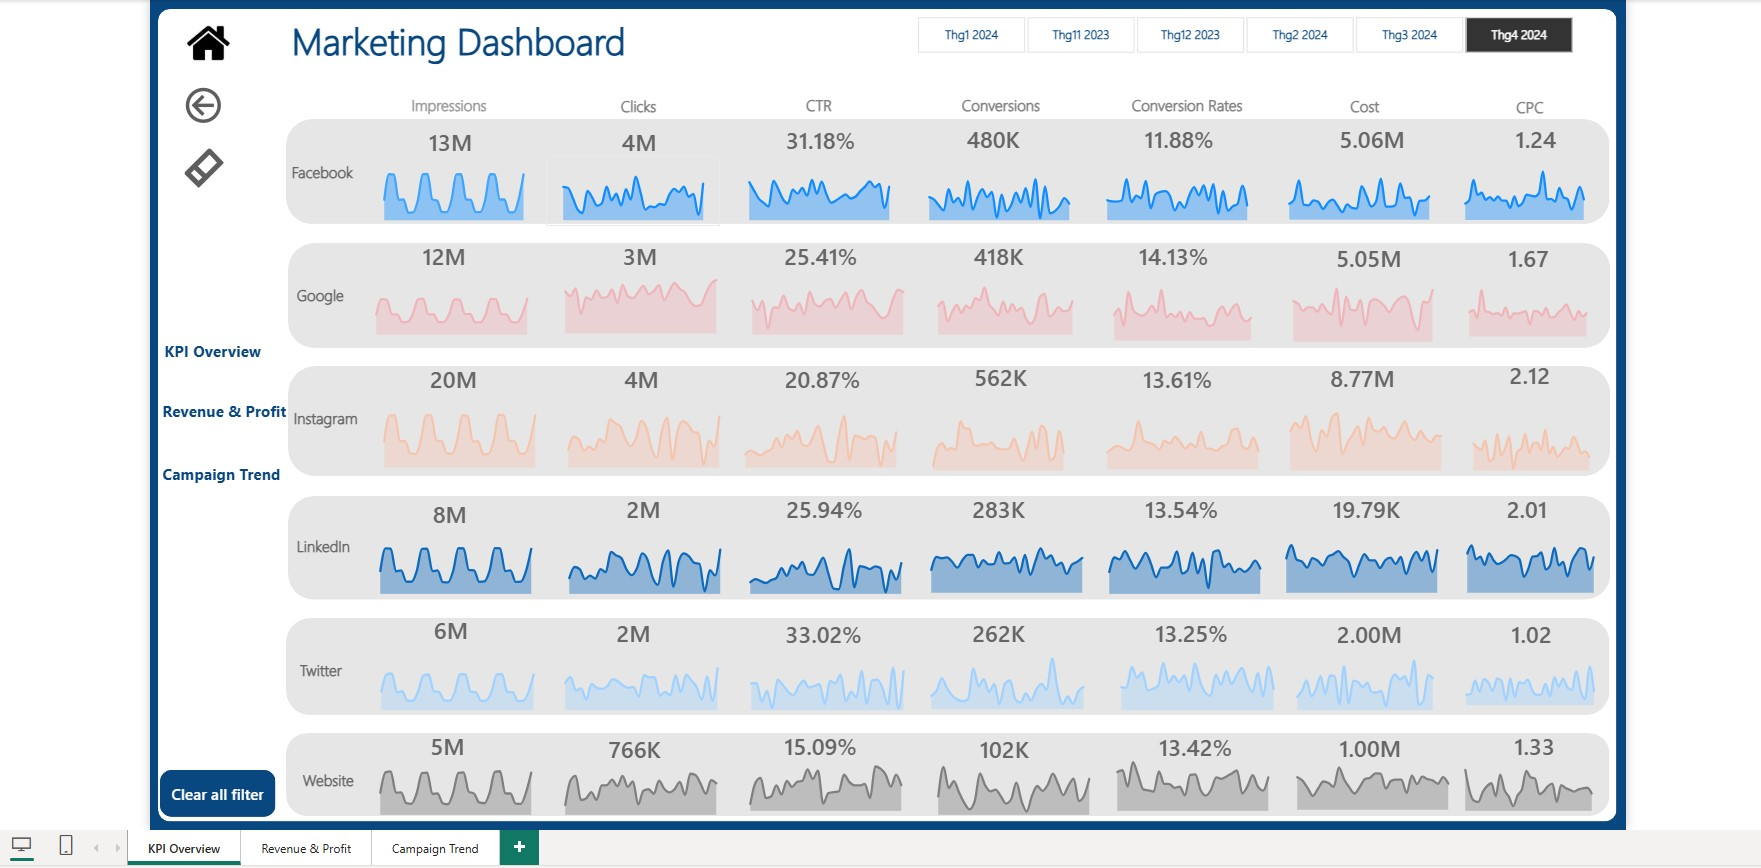

Layout of this report page (visuals, bound fields, positions):
{"tool":"powerbi","page":{"name":"KPI Overview","canvas":[1280,720],"ordinal":0},"visuals":[{"type":"shape","box":[6.8,7.9,1265.4,704.7],"z":0},{"type":"shape","box":[118.2,636.1,1148.3,72],"z":1000},{"type":"shape","box":[118.2,535.9,1148.3,84.4],"z":2000},{"type":"shape","box":[119.3,430,1147.2,90.1],"z":3000},{"type":"shape","box":[119.3,317.5,1147.2,95.7],"z":4000},{"type":"shape","box":[119.3,210.5,1147.2,91.2],"z":5000},{"type":"shape","box":[118.2,103.6,1148.3,91.2],"z":6000},{"type":"textbox","box":[118.2,7.9,334.4,52.9],"z":7000},{"type":"textbox","box":[118.2,135.1,137.3,54],"z":8000},{"type":"textbox","box":[122.7,242,59.7,41.7],"z":9000},{"type":"textbox","box":[119.3,349,94.6,33.8],"z":10000},{"type":"textbox","box":[122.7,459.5,65.4,34.9],"z":11000},{"type":"card","fields":{"Values":["_Measures.facebook_impression"]},"box":[181.2,105.8,158.7,38.3],"z":12000},{"type":"card","fields":{"Values":["_Measures.Google_impression"]},"box":[175.6,206,159.9,36],"z":13000},{"type":"slicer","fields":{"Values":["media_all_channels.Month Year"]},"box":[640.4,8.1,618.1,44.8],"z":14000},{"type":"card","fields":{"Values":["_Measures.Instagram_impression"]},"box":[183.5,313,158.7,34.9],"z":15000},{"type":"card","fields":{"Values":["_Measures.Linkedln_impression"]},"box":[181.2,430,157.6,34.9],"z":16000},{"type":"card","fields":{"Values":["_Measures.Twitter_impression"]},"box":[182.4,534.7,157.6,28.1],"z":17000},{"type":"card","fields":{"Values":["_Measures.Website_impression"]},"box":[179,636.1,158.7,27],"z":18000},{"type":"textbox","box":[125,567.4,65.3,31.5],"z":19000},{"type":"textbox","box":[127.2,663.1,63,34.9],"z":20000},{"type":"card","fields":{"Values":["_Measures.Facebook_clicks"]},"box":[344.5,105.8,159.9,38.3],"z":21000},{"type":"card","fields":{"Values":["_Measures.Google_clicks"]},"box":[345.6,208.3,159.9,31.5],"z":22000},{"type":"card","fields":{"Values":["_Measures.Instagram_clicks"]},"box":[346.7,313,158.7,34.9],"z":23000},{"type":"card","fields":{"Values":["_Measures.LinkedIn_clicks"]},"box":[349,430,158.7,27],"z":24000},{"type":"card","fields":{"Values":["_Measures.Twitter_clicks"]},"box":[340,534.7,158.7,32.6],"z":25000},{"type":"card","fields":{"Values":["_Measures.Website_clicks"]},"box":[341.1,637.2,158.7,25.9],"z":26000},{"type":"textbox","box":[213.4,77.4,92,27.2],"z":27000},{"type":"textbox","box":[377.1,77.8,92.8,26.9],"z":28000},{"type":"textbox","box":[534.7,76.8,91.8,26.9],"z":29000},{"type":"card","fields":{"Values":["_Measures.Facebook_ctr"]},"box":[502.1,103.6,158.7,39.4],"z":30000},{"type":"card","fields":{"Values":["_Measures.Google Ads_ctr"]},"box":[503.2,208.3,157.6,31.5],"z":31000},{"type":"card","fields":{"Values":["_Measures.Instagram_ctr"]},"box":[504.3,313,158.7,34.9],"z":32000},{"type":"card","fields":{"Values":["_Measures.LinkedIn_ctr"]},"box":[505.5,430,158.7,27],"z":33000},{"type":"card","fields":{"Values":["_Measures.Twitter_ctr"]},"box":[510,535.9,148.6,31.5],"z":34000},{"type":"card","fields":{"Values":["_Measures.Website_ctr"]},"box":[502.1,633.8,158.7,29.3],"z":35000},{"type":"textbox","box":[692.4,76.8,91.8,26.9],"z":36000},{"type":"card","fields":{"Values":["_Measures.Facebook_conversions"]},"box":[651.8,103.6,159.9,38.3],"z":37000},{"type":"card","fields":{"Values":["_Measures.Google Ads_conversions"]},"box":[656.3,208.3,158.7,31.5],"z":38000},{"type":"card","fields":{"Values":["_Measures.Instagram_conversions"]},"box":[658.6,310.7,158.7,37.2],"z":39000},{"type":"card","fields":{"Values":["_Measures.LinkedIn_conversions"]},"box":[656.3,430,158.7,27],"z":40000},{"type":"card","fields":{"Values":["_Measures.Twitter_conversions"]},"box":[656.3,534.7,158.7,32.6],"z":41000},{"type":"card","fields":{"Values":["_Measures.Website_conversions"]},"box":[675.5,637.2,130.6,25.9],"z":42000},{"type":"card","fields":{"Values":["_Measures.Facebook_conversion_rate"]},"box":[812.8,103.6,159.9,38.3],"z":43000},{"type":"card","fields":{"Values":["_Measures.Google Ads_conversion_rate"]},"box":[808.3,208.3,158.7,31.5],"z":44000},{"type":"card","fields":{"Values":["_Measures.Instagram_conversion_rate"]},"box":[811.7,313,158.7,34.9],"z":45000},{"type":"card","fields":{"Values":["_Measures.LinkedIn_conversion_rate"]},"box":[815.1,426.7,158.7,32.6],"z":46000},{"type":"card","fields":{"Values":["_Measures.Twitter_conversion_rate"]},"box":[824.1,534.7,158.7,32.6],"z":47000},{"type":"card","fields":{"Values":["_Measures.Website_conversion_rate"]},"box":[827.4,634.9,158.7,30.4],"z":48000},{"type":"textbox","box":[829,77.4,140.7,27],"z":49000},{"type":"card","fields":{"Values":["_Measures.Facebook_cost"]},"box":[980.5,103.6,159.9,38.3],"z":50000},{"type":"card","fields":{"Values":["_Measures.Google Ads_cost"]},"box":[978.3,210.5,157.6,29.3],"z":51000},{"type":"card","fields":{"Values":["_Measures.Instagram_cost"]},"box":[972.7,315.2,158.7,30.4],"z":52000},{"type":"card","fields":{"Values":["_Measures.LinkedIn_cost"]},"box":[976,430,158.7,27],"z":53000},{"type":"card","fields":{"Values":["_Measures.Twitter_cost"]},"box":[978.3,535.9,158.7,31.5],"z":54000},{"type":"card","fields":{"Values":["_Measures.Website_cost"]},"box":[978.3,637.2,159.9,27],"z":55000},{"type":"textbox","box":[1019.6,77.8,68.8,26.9],"z":56000},{"type":"card","fields":{"Values":["_Measures.Facebook_cpc"]},"box":[1134.8,108.1,135.1,28.1],"z":57000},{"type":"card","fields":{"Values":["_Measures.Google Ads_cpc"]},"box":[1116.8,212.8,158.7,27],"z":58000},{"type":"card","fields":{"Values":["_Measures.Instagram_cpc"]},"box":[1128,314.1,138.5,27],"z":59000},{"type":"card","fields":{"Values":["_Measures.LinkedIn_cpc"]},"box":[1119,430,150.9,27],"z":60000},{"type":"card","fields":{"Values":["_Measures.Twitter_cpc"]},"box":[1119,535.9,158.7,31.5],"z":61000},{"type":"card","fields":{"Values":["_Measures.Website_cpc"]},"box":[1121.3,636.1,158.7,27],"z":62000},{"type":"textbox","box":[1157.3,78.8,79.8,26.9],"z":63000},{"type":"stackedAreaChart","fields":{"Category":["media_all_channels.date.Biến động.Phân cấp ngày tháng.Năm"],"Y":["_Measures.Facebook_impression"]},"box":[188,135.1,150.9,60.8],"z":64000},{"type":"stackedAreaChart","fields":{"Category":["media_all_channels.date.Biến động.Phân cấp ngày tháng.Năm"],"Y":["_Measures.Google Ads_impression"]},"box":[181.2,225.2,161,69.8],"z":65000},{"type":"stackedAreaChart","fields":{"Category":["media_all_channels.date.Biến động.Phân cấp ngày tháng.Năm"],"Y":["_Measures.LinkedIn_impression"]},"box":[184.6,457.1,161,63],"z":66000},{"type":"stackedAreaChart","fields":{"Category":["media_all_channels.date.Biến động.Phân cấp ngày tháng.Năm"],"Y":["_Measures.Instagram_impression"]},"box":[188,341.1,161,69.8],"z":67000},{"type":"stackedAreaChart","fields":{"Category":["media_all_channels.date.Biến động.Phân cấp ngày tháng.Năm"],"Y":["_Measures.Twitter_impression"]},"box":[185.8,556.1,162.1,65.3],"z":68000},{"type":"stackedAreaChart","fields":{"Category":["media_all_channels.date.Biến động.Phân cấp ngày tháng.Năm"],"Y":["_Measures.Website_impression"]},"box":[184.6,648.4,161,63],"z":69000},{"type":"stackedAreaChart","fields":{"Category":["media_all_channels.date.Biến động.Phân cấp ngày tháng.Năm"],"Y":["_Measures.Facebook_clicks"]},"box":[343.1,134.9,151.3,60.7],"z":70000},{"type":"stackedAreaChart","fields":{"Category":["media_all_channels.date.Biến động.Phân cấp ngày tháng.Năm"],"Y":["_Measures.Facebook_ctr"]},"box":[505.1,134.9,151.3,60.7],"z":71000},{"type":"stackedAreaChart","fields":{"Category":["media_all_channels.date.Biến động.Phân cấp ngày tháng.Năm"],"Y":["_Measures.Facebook_conversions"]},"box":[661.2,134.9,151.3,60.7],"z":72000},{"type":"stackedAreaChart","fields":{"Category":["media_all_channels.date.Biến động.Phân cấp ngày tháng.Năm"],"Y":["_Measures.Facebook_conversion_rate"]},"box":[815.4,134.9,151.3,60.7],"z":73000},{"type":"stackedAreaChart","fields":{"Category":["media_all_channels.date.Biến động.Phân cấp ngày tháng.Năm"],"Y":["_Measures.Facebook_cost"]},"box":[973.5,131.1,151.3,64.6],"z":74000},{"type":"stackedAreaChart","fields":{"Category":["media_all_channels.date.Biến động.Phân cấp ngày tháng.Năm"],"Y":["_Measures.Facebook_cpc"]},"box":[1125.8,125,132.8,70.9],"z":75000},{"type":"stackedAreaChart","fields":{"Category":["media_all_channels.date.Biến động.Phân cấp ngày tháng.Năm"],"Y":["_Measures.Google Ads_clicks"]},"box":[345.6,225.2,161,69.8],"z":76000},{"type":"stackedAreaChart","fields":{"Category":["media_all_channels.date.Biến động.Phân cấp ngày tháng.Năm"],"Y":["_Measures.Google Ads_ctr"]},"box":[507.7,225.2,161,69.8],"z":77000},{"type":"stackedAreaChart","fields":{"Category":["media_all_channels.date.Biến động.Phân cấp ngày tháng.Năm"],"Y":["_Measures.Google Ads_conversions"]},"box":[668.7,225.2,146.4,69.8],"z":78000},{"type":"stackedAreaChart","fields":{"Category":["media_all_channels.date.Biến động.Phân cấp ngày tháng.Năm"],"Y":["_Measures.Google Ads_conversion_rate"]},"box":[821.8,231.9,148.6,69.8],"z":79000},{"type":"stackedAreaChart","fields":{"Category":["media_all_channels.date.Biến động.Phân cấp ngày tháng.Năm"],"Y":["_Measures.Google Ads_cost"]},"box":[977.2,231.9,150.9,69.8],"z":80000},{"type":"stackedAreaChart","fields":{"Category":["media_all_channels.date.Biến động.Phân cấp ngày tháng.Năm"],"Y":["_Measures.Google Ads_cpc"]},"box":[1129.1,228.5,131.7,69.8],"z":81000},{"type":"stackedAreaChart","fields":{"Category":["media_all_channels.date.Biến động.Phân cấp ngày tháng.Năm"],"Y":["_Measures.LinkedIn_clicks"]},"box":[347.9,341.1,161,69.8],"z":82000},{"type":"stackedAreaChart","fields":{"Category":["media_all_channels.date.Biến động.Phân cấp ngày tháng.Năm"],"Y":["_Measures.LinkedIn_ctr"]},"box":[501,341.1,161,69.8],"z":83000},{"type":"stackedAreaChart","fields":{"Category":["media_all_channels.date.Biến động.Phân cấp ngày tháng.Năm"],"Y":["_Measures.Instagram_conversions"]},"box":[664.2,343.4,143,69.8],"z":84000},{"type":"stackedAreaChart","fields":{"Category":["media_all_channels.date.Biến động.Phân cấp ngày tháng.Năm"],"Y":["_Measures.Instagram_conversion_rate"]},"box":[815.1,343.4,161,69.8],"z":85000},{"type":"stackedAreaChart","fields":{"Category":["media_all_channels.date.Biến động.Phân cấp ngày tháng.Năm"],"Y":["_Measures.Instagram_cost"]},"box":[973.8,343.4,161,69.8],"z":86000},{"type":"stackedAreaChart","fields":{"Category":["media_all_channels.date.Biến động.Phân cấp ngày tháng.Năm"],"Y":["_Measures.Instagram_cpc"]},"box":[1132.5,343.4,130.6,69.8],"z":87000},{"type":"stackedAreaChart","fields":{"Category":["media_all_channels.date.Biến động.Phân cấp ngày tháng.Năm"],"Y":["_Measures.LinkedIn_clicks"]},"box":[349,457.1,161,63],"z":88000},{"type":"stackedAreaChart","fields":{"Category":["media_all_channels.date.Biến động.Phân cấp ngày tháng.Năm"],"Y":["_Measures.LinkedIn_ctr"]},"box":[505.5,457.1,161,63],"z":89000},{"type":"stackedAreaChart","fields":{"Category":["media_all_channels.date.Biến động.Phân cấp ngày tháng.Năm"],"Y":["_Measures.LinkedIn_conversions"]},"box":[663.1,457.1,161,63],"z":90000},{"type":"stackedAreaChart","fields":{"Category":["media_all_channels.date.Biến động.Phân cấp ngày tháng.Năm"],"Y":["_Measures.LinkedIn_conversion_rate"]},"box":[817.3,457.1,161,63],"z":91000},{"type":"stackedAreaChart","fields":{"Category":["media_all_channels.date.Biến động.Phân cấp ngày tháng.Năm"],"Y":["_Measures.LinkedIn_cost"]},"box":[970.4,457.1,161,63],"z":92000},{"type":"stackedAreaChart","fields":{"Category":["media_all_channels.date.Biến động.Phân cấp ngày tháng.Năm"],"Y":["_Measures.LinkedIn_cpc"]},"box":[1128,457.1,139.6,63],"z":93000},{"type":"stackedAreaChart","fields":{"Category":["media_all_channels.date.Biến động.Phân cấp ngày tháng.Năm"],"Y":["_Measures.Twitter_clicks"]},"box":[345.6,556.1,162.1,65.3],"z":94000},{"type":"stackedAreaChart","fields":{"Category":["media_all_channels.date.Biến động.Phân cấp ngày tháng.Năm"],"Y":["_Measures.Twitter_ctr"]},"box":[506.6,556.1,162.1,65.3],"z":95000},{"type":"stackedAreaChart","fields":{"Category":["media_all_channels.date.Biến động.Phân cấp ngày tháng.Năm"],"Y":["_Measures.Twitter_conversions"]},"box":[663.1,555,162.1,65.3],"z":96000},{"type":"stackedAreaChart","fields":{"Category":["media_all_channels.date.Biến động.Phân cấp ngày tháng.Năm"],"Y":["_Measures.Twitter_conversion_rate"]},"box":[827.4,556.1,162.1,65.3],"z":97000},{"type":"stackedAreaChart","fields":{"Category":["media_all_channels.date.Biến động.Phân cấp ngày tháng.Năm"],"Y":["_Measures.Twitter_cost"]},"box":[980.5,556.1,147.5,65.3],"z":98000},{"type":"stackedAreaChart","fields":{"Category":["media_all_channels.date.Biến động.Phân cấp ngày tháng.Năm"],"Y":["_Measures.Twitter_cpc"]},"box":[1126.9,551.6,140.7,65.3],"z":99000},{"type":"stackedAreaChart","fields":{"Category":["media_all_channels.date.Biến động.Phân cấp ngày tháng.Năm"],"Y":["_Measures.Website_clicks"]},"box":[345.6,648.4,161,63],"z":100000},{"type":"stackedAreaChart","fields":{"Category":["media_all_channels.date.Biến động.Phân cấp ngày tháng.Năm"],"Y":["_Measures.Website_ctr"]},"box":[505.5,645.1,161,63],"z":101000},{"type":"stackedAreaChart","fields":{"Category":["media_all_channels.date.Biến động.Phân cấp ngày tháng.Năm"],"Y":["_Measures.Website_conversion_rate"]},"box":[824.1,645.1,161,63],"z":102000},{"type":"stackedAreaChart","fields":{"Category":["media_all_channels.date.Biến động.Phân cấp ngày tháng.Năm"],"Y":["_Measures.Website_conversions"]},"box":[668.7,648.4,161,63],"z":103000},{"type":"stackedAreaChart","fields":{"Category":["media_all_channels.date.Biến động.Phân cấp ngày tháng.Năm"],"Y":["_Measures.Website_cost"]},"box":[980.5,645.1,161,63],"z":104000},{"type":"stackedAreaChart","fields":{"Category":["media_all_channels.date.Biến động.Phân cấp ngày tháng.Năm"],"Y":["_Measures.Website_cpc"]},"box":[1125.8,645.1,139.6,63],"z":105000},{"type":"actionButton","box":[9,283.7,100.2,40.5],"z":106000},{"type":"actionButton","box":[6.8,335.5,141.8,40.5],"z":107000},{"type":"actionButton","box":[6.8,390.6,118.2,40.5],"z":108000},{"type":"actionButton","box":[9,667.6,100.2,40.5],"z":109000},{"type":"actionButton","box":[25.9,70.9,58.5,40.5],"z":110000},{"type":"actionButton","box":[25.9,125,50.7,41.7],"z":111000},{"type":"image","box":[24.8,13.5,51.8,47.3],"z":112000}]}

Visuals, with their boxes on the page's 1280x720 design canvas (x1, y1, x2, y2). These are canvas units, not pixel positions in the 1761x868 screenshot, which may show the page scaled, cropped or inside an application window:
shape: [7, 8, 1272, 713]
shape: [118, 636, 1266, 708]
shape: [118, 536, 1266, 620]
shape: [119, 430, 1266, 520]
shape: [119, 318, 1266, 413]
shape: [119, 210, 1266, 302]
shape: [118, 104, 1266, 195]
textbox: [118, 8, 453, 61]
textbox: [118, 135, 256, 189]
textbox: [123, 242, 182, 284]
textbox: [119, 349, 214, 383]
textbox: [123, 460, 188, 494]
card - _Measures.facebook_impression: [181, 106, 340, 144]
card - _Measures.Google_impression: [176, 206, 336, 242]
slicer - media_all_channels.Month Year: [640, 8, 1258, 53]
card - _Measures.Instagram_impression: [184, 313, 342, 348]
card - _Measures.Linkedln_impression: [181, 430, 339, 465]
card - _Measures.Twitter_impression: [182, 535, 340, 563]
card - _Measures.Website_impression: [179, 636, 338, 663]
textbox: [125, 567, 190, 599]
textbox: [127, 663, 190, 698]
card - _Measures.Facebook_clicks: [344, 106, 504, 144]
card - _Measures.Google_clicks: [346, 208, 506, 240]
card - _Measures.Instagram_clicks: [347, 313, 505, 348]
card - _Measures.LinkedIn_clicks: [349, 430, 508, 457]
card - _Measures.Twitter_clicks: [340, 535, 499, 567]
card - _Measures.Website_clicks: [341, 637, 500, 663]
textbox: [213, 77, 305, 105]
textbox: [377, 78, 470, 105]
textbox: [535, 77, 626, 104]
card - _Measures.Facebook_ctr: [502, 104, 661, 143]
card - _Measures.Google Ads_ctr: [503, 208, 661, 240]
card - _Measures.Instagram_ctr: [504, 313, 663, 348]
card - _Measures.LinkedIn_ctr: [506, 430, 664, 457]
card - _Measures.Twitter_ctr: [510, 536, 659, 567]
card - _Measures.Website_ctr: [502, 634, 661, 663]
textbox: [692, 77, 784, 104]
card - _Measures.Facebook_conversions: [652, 104, 812, 142]
card - _Measures.Google Ads_conversions: [656, 208, 815, 240]
card - _Measures.Instagram_conversions: [659, 311, 817, 348]
card - _Measures.LinkedIn_conversions: [656, 430, 815, 457]
card - _Measures.Twitter_conversions: [656, 535, 815, 567]
card - _Measures.Website_conversions: [676, 637, 806, 663]
card - _Measures.Facebook_conversion_rate: [813, 104, 973, 142]
card - _Measures.Google Ads_conversion_rate: [808, 208, 967, 240]
card - _Measures.Instagram_conversion_rate: [812, 313, 970, 348]
card - _Measures.LinkedIn_conversion_rate: [815, 427, 974, 459]
card - _Measures.Twitter_conversion_rate: [824, 535, 983, 567]
card - _Measures.Website_conversion_rate: [827, 635, 986, 665]
textbox: [829, 77, 970, 104]
card - _Measures.Facebook_cost: [980, 104, 1140, 142]
card - _Measures.Google Ads_cost: [978, 210, 1136, 240]
card - _Measures.Instagram_cost: [973, 315, 1131, 346]
card - _Measures.LinkedIn_cost: [976, 430, 1135, 457]
card - _Measures.Twitter_cost: [978, 536, 1137, 567]
card - _Measures.Website_cost: [978, 637, 1138, 664]
textbox: [1020, 78, 1088, 105]
card - _Measures.Facebook_cpc: [1135, 108, 1270, 136]
card - _Measures.Google Ads_cpc: [1117, 213, 1276, 240]
card - _Measures.Instagram_cpc: [1128, 314, 1266, 341]
card - _Measures.LinkedIn_cpc: [1119, 430, 1270, 457]
card - _Measures.Twitter_cpc: [1119, 536, 1278, 567]
card - _Measures.Website_cpc: [1121, 636, 1280, 663]
textbox: [1157, 79, 1237, 106]
stackedAreaChart - media_all_channels.date.Biến động.Phân cấp ngày tháng.Năm x _Measures.Facebook_impression: [188, 135, 339, 196]
stackedAreaChart - media_all_channels.date.Biến động.Phân cấp ngày tháng.Năm x _Measures.Google Ads_impression: [181, 225, 342, 295]
stackedAreaChart - media_all_channels.date.Biến động.Phân cấp ngày tháng.Năm x _Measures.LinkedIn_impression: [185, 457, 346, 520]
stackedAreaChart - media_all_channels.date.Biến động.Phân cấp ngày tháng.Năm x _Measures.Instagram_impression: [188, 341, 349, 411]
stackedAreaChart - media_all_channels.date.Biến động.Phân cấp ngày tháng.Năm x _Measures.Twitter_impression: [186, 556, 348, 621]
stackedAreaChart - media_all_channels.date.Biến động.Phân cấp ngày tháng.Năm x _Measures.Website_impression: [185, 648, 346, 711]
stackedAreaChart - media_all_channels.date.Biến động.Phân cấp ngày tháng.Năm x _Measures.Facebook_clicks: [343, 135, 494, 196]
stackedAreaChart - media_all_channels.date.Biến động.Phân cấp ngày tháng.Năm x _Measures.Facebook_ctr: [505, 135, 656, 196]
stackedAreaChart - media_all_channels.date.Biến động.Phân cấp ngày tháng.Năm x _Measures.Facebook_conversions: [661, 135, 812, 196]
stackedAreaChart - media_all_channels.date.Biến động.Phân cấp ngày tháng.Năm x _Measures.Facebook_conversion_rate: [815, 135, 967, 196]
stackedAreaChart - media_all_channels.date.Biến động.Phân cấp ngày tháng.Năm x _Measures.Facebook_cost: [974, 131, 1125, 196]
stackedAreaChart - media_all_channels.date.Biến động.Phân cấp ngày tháng.Năm x _Measures.Facebook_cpc: [1126, 125, 1259, 196]
stackedAreaChart - media_all_channels.date.Biến động.Phân cấp ngày tháng.Năm x _Measures.Google Ads_clicks: [346, 225, 507, 295]
stackedAreaChart - media_all_channels.date.Biến động.Phân cấp ngày tháng.Năm x _Measures.Google Ads_ctr: [508, 225, 669, 295]
stackedAreaChart - media_all_channels.date.Biến động.Phân cấp ngày tháng.Năm x _Measures.Google Ads_conversions: [669, 225, 815, 295]
stackedAreaChart - media_all_channels.date.Biến động.Phân cấp ngày tháng.Năm x _Measures.Google Ads_conversion_rate: [822, 232, 970, 302]
stackedAreaChart - media_all_channels.date.Biến động.Phân cấp ngày tháng.Năm x _Measures.Google Ads_cost: [977, 232, 1128, 302]
stackedAreaChart - media_all_channels.date.Biến động.Phân cấp ngày tháng.Năm x _Measures.Google Ads_cpc: [1129, 228, 1261, 298]
stackedAreaChart - media_all_channels.date.Biến động.Phân cấp ngày tháng.Năm x _Measures.LinkedIn_clicks: [348, 341, 509, 411]
stackedAreaChart - media_all_channels.date.Biến động.Phân cấp ngày tháng.Năm x _Measures.LinkedIn_ctr: [501, 341, 662, 411]
stackedAreaChart - media_all_channels.date.Biến động.Phân cấp ngày tháng.Năm x _Measures.Instagram_conversions: [664, 343, 807, 413]
stackedAreaChart - media_all_channels.date.Biến động.Phân cấp ngày tháng.Năm x _Measures.Instagram_conversion_rate: [815, 343, 976, 413]
stackedAreaChart - media_all_channels.date.Biến động.Phân cấp ngày tháng.Năm x _Measures.Instagram_cost: [974, 343, 1135, 413]
stackedAreaChart - media_all_channels.date.Biến động.Phân cấp ngày tháng.Năm x _Measures.Instagram_cpc: [1132, 343, 1263, 413]
stackedAreaChart - media_all_channels.date.Biến động.Phân cấp ngày tháng.Năm x _Measures.LinkedIn_clicks: [349, 457, 510, 520]
stackedAreaChart - media_all_channels.date.Biến động.Phân cấp ngày tháng.Năm x _Measures.LinkedIn_ctr: [506, 457, 666, 520]
stackedAreaChart - media_all_channels.date.Biến động.Phân cấp ngày tháng.Năm x _Measures.LinkedIn_conversions: [663, 457, 824, 520]
stackedAreaChart - media_all_channels.date.Biến động.Phân cấp ngày tháng.Năm x _Measures.LinkedIn_conversion_rate: [817, 457, 978, 520]
stackedAreaChart - media_all_channels.date.Biến động.Phân cấp ngày tháng.Năm x _Measures.LinkedIn_cost: [970, 457, 1131, 520]
stackedAreaChart - media_all_channels.date.Biến động.Phân cấp ngày tháng.Năm x _Measures.LinkedIn_cpc: [1128, 457, 1268, 520]
stackedAreaChart - media_all_channels.date.Biến động.Phân cấp ngày tháng.Năm x _Measures.Twitter_clicks: [346, 556, 508, 621]
stackedAreaChart - media_all_channels.date.Biến động.Phân cấp ngày tháng.Năm x _Measures.Twitter_ctr: [507, 556, 669, 621]
stackedAreaChart - media_all_channels.date.Biến động.Phân cấp ngày tháng.Năm x _Measures.Twitter_conversions: [663, 555, 825, 620]
stackedAreaChart - media_all_channels.date.Biến động.Phân cấp ngày tháng.Năm x _Measures.Twitter_conversion_rate: [827, 556, 990, 621]
stackedAreaChart - media_all_channels.date.Biến động.Phân cấp ngày tháng.Năm x _Measures.Twitter_cost: [980, 556, 1128, 621]
stackedAreaChart - media_all_channels.date.Biến động.Phân cấp ngày tháng.Năm x _Measures.Twitter_cpc: [1127, 552, 1268, 617]
stackedAreaChart - media_all_channels.date.Biến động.Phân cấp ngày tháng.Năm x _Measures.Website_clicks: [346, 648, 507, 711]
stackedAreaChart - media_all_channels.date.Biến động.Phân cấp ngày tháng.Năm x _Measures.Website_ctr: [506, 645, 666, 708]
stackedAreaChart - media_all_channels.date.Biến động.Phân cấp ngày tháng.Năm x _Measures.Website_conversion_rate: [824, 645, 985, 708]
stackedAreaChart - media_all_channels.date.Biến động.Phân cấp ngày tháng.Năm x _Measures.Website_conversions: [669, 648, 830, 711]
stackedAreaChart - media_all_channels.date.Biến động.Phân cấp ngày tháng.Năm x _Measures.Website_cost: [980, 645, 1142, 708]
stackedAreaChart - media_all_channels.date.Biến động.Phân cấp ngày tháng.Năm x _Measures.Website_cpc: [1126, 645, 1265, 708]
actionButton: [9, 284, 109, 324]
actionButton: [7, 336, 149, 376]
actionButton: [7, 391, 125, 431]
actionButton: [9, 668, 109, 708]
actionButton: [26, 71, 84, 111]
actionButton: [26, 125, 77, 167]
image: [25, 14, 77, 61]
